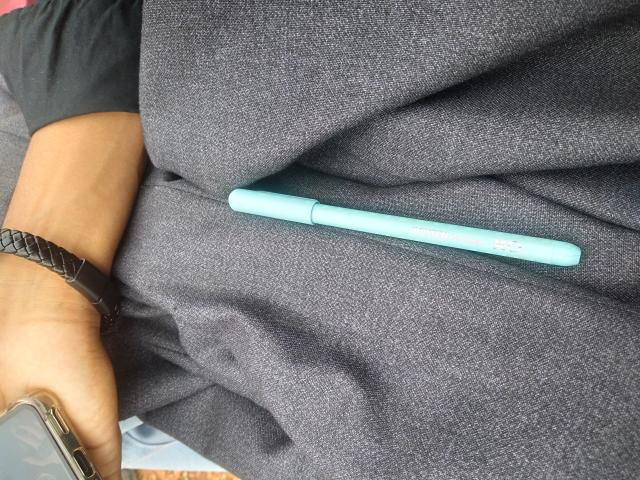PEN: (213, 168, 582, 295)
